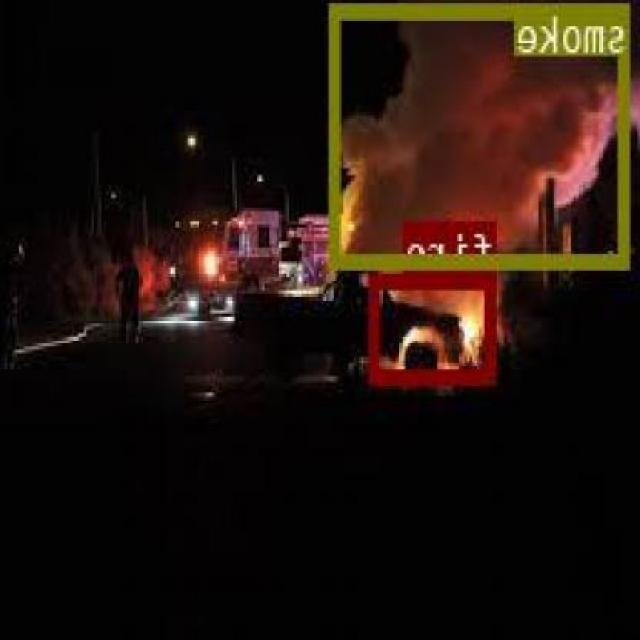Fire: (372, 272, 499, 381)
Smoke: (333, 3, 633, 265)
